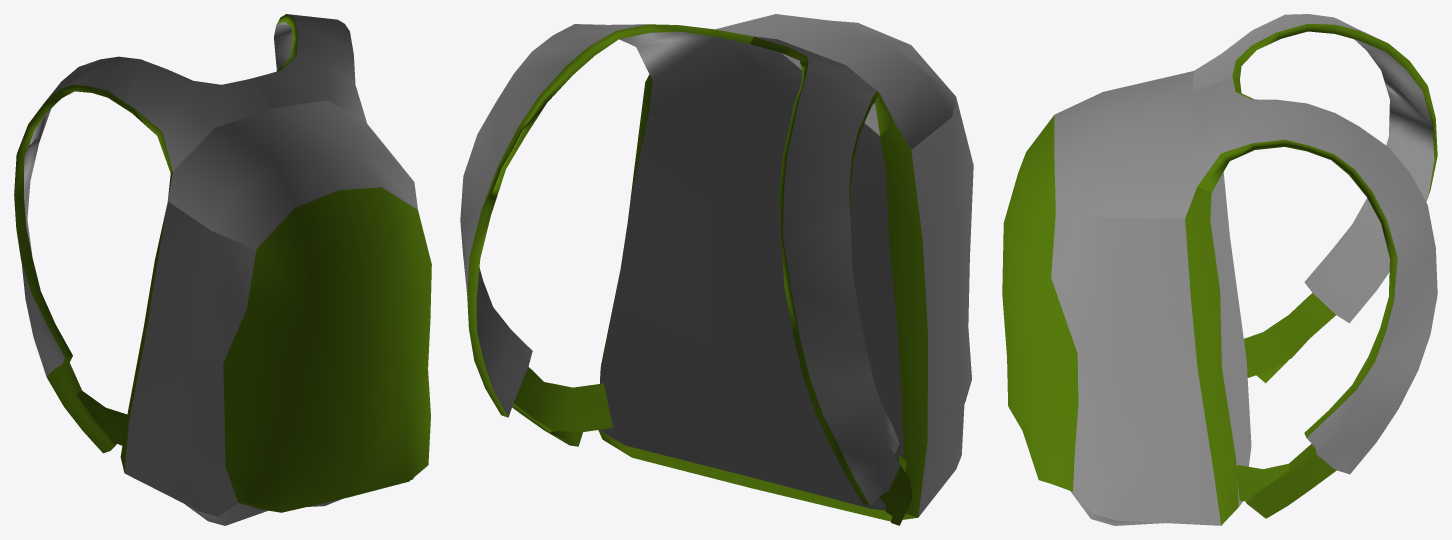
File: Canta.fbx
3 views of the same model, side by side, from view 1: azimuth 30°, elevation 25°; view 2: azimuth 150°, elevation 25°; view 3: azimuth 270°, elevation 25° (orthographic). The views are drawn at different scales.
Visible parts, largest first — view 1: Mesh_0072.rip; view 2: Mesh_0072.rip; view 3: Mesh_0072.rip.
Part boxes in pixels (<box>): Mesh_0072.rip: <box>14,14,431,525</box>; Mesh_0072.rip: <box>460,14,973,525</box>; Mesh_0072.rip: <box>1002,14,1437,525</box>.
Size of the model in its own units: 31.37 by 35.63 by 33.97.
